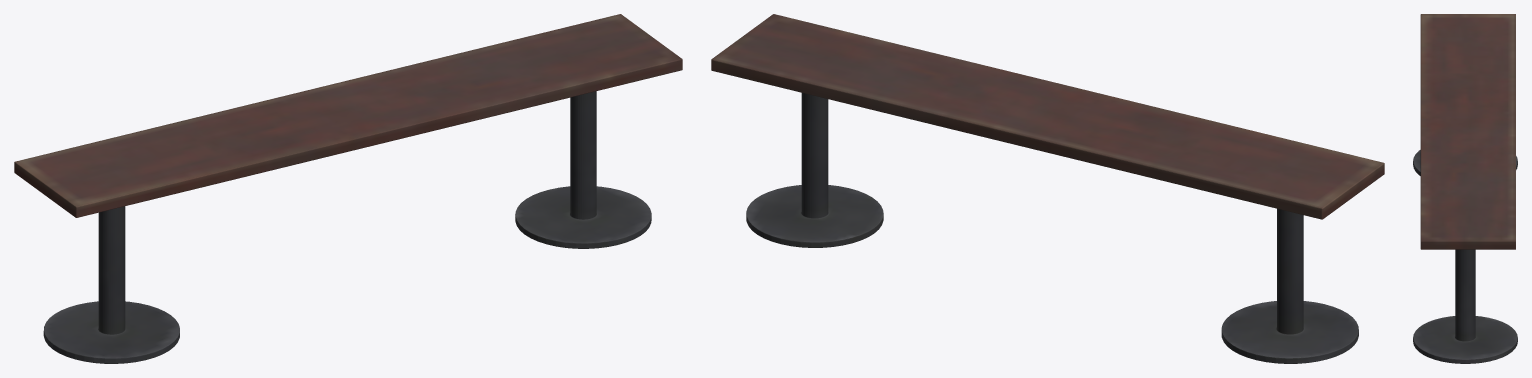
The model's file is corrimao1.fbx.
3 renders of one model, left to right at view 1: azimuth 30°, elevation 25°; view 2: azimuth 150°, elevation 25°; view 3: azimuth 270°, elevation 25°, orthographic. The views are drawn at different scales.
Visible parts, largest first — view 1: Park Bench.Shape; view 2: Park Bench.Shape; view 3: Park Bench.Shape.
Boxes of the visible parts, bbox=[...] form: Park Bench.Shape: bbox=[14, 14, 682, 363]; Park Bench.Shape: bbox=[711, 14, 1384, 363]; Park Bench.Shape: bbox=[1413, 14, 1517, 363].
Bounding box in the file's own units: 126 × 33.08 × 24.61.
1 material, 1 textured.
